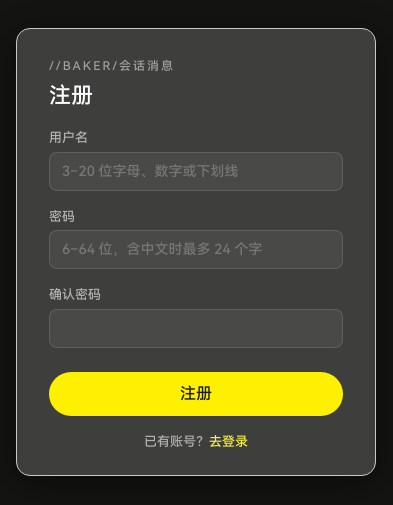
Test case: RegisterPage › 两次密码不一致时在确认密码下方提示
Type "newuser" into the field labelled "用户名" at coordinates (196, 171), box [49, 152, 343, 190]
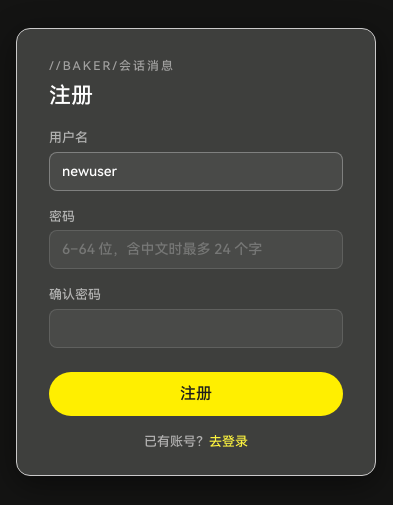
Type "secret1" into the password field labelled "密码" at coordinates (196, 250), box [49, 230, 343, 269]
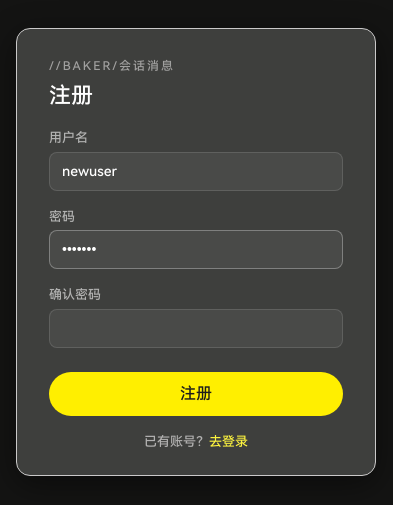
Type "secret2" into the password field labelled "确认密码" at coordinates (196, 328), box [49, 308, 343, 348]
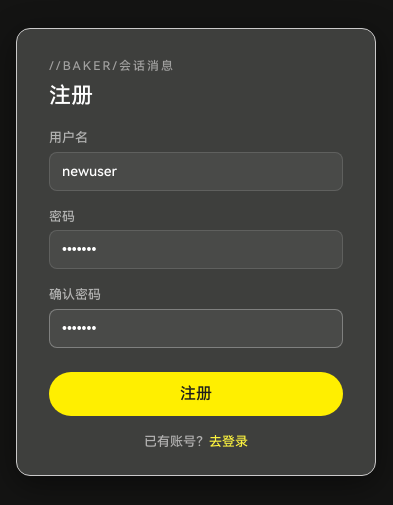
Click the button "注册" at coordinates (196, 394), box [49, 372, 343, 416]
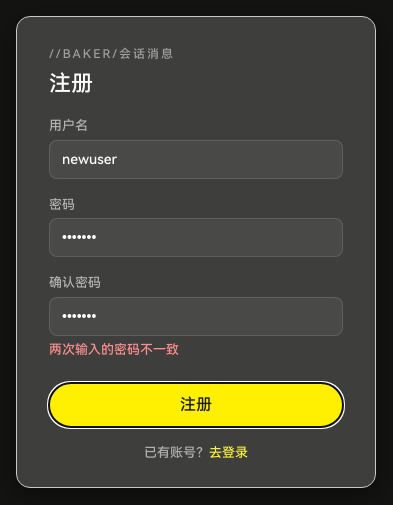
Expected: the text "两次输入的密码不一致" is shown, [49, 342, 179, 357]
